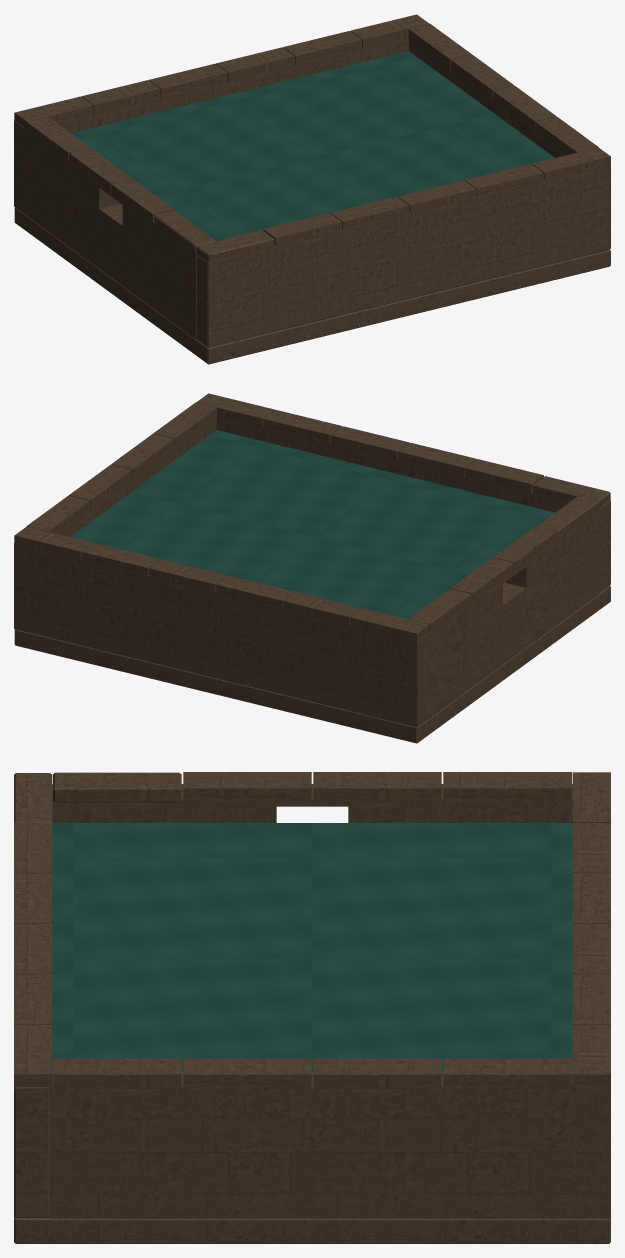
Rendered from d_drinking_cistern.glb.
The picture shows the model from 3 angles, top to bottom: view 1: azimuth 30°, elevation 25°; view 2: azimuth 150°, elevation 25°; view 3: azimuth 270°, elevation 25°; orthographic projection. The views are drawn at different scales.
Parts seen in each view (by area): view 1: basin foundation, WaterSurface, ported retaining wall-colonly.001, ported retaining wall-colonly.005, ported retaining wall-colonly.006, long coping block-colonly.002, long coping block-colonly.009, long coping block-colonly.011, long coping block-colonly.010, long coping block-colonly.001, short coping block-colonly.007, ported retaining wall-colonly.002 (+2 smaller); view 2: basin foundation, WaterSurface, ported retaining wall-colonly.005, ported retaining wall-colonly.002, ported retaining wall-colonly.001, short coping block-colonly.003, long coping block-colonly.003, long coping block-colonly.006, long coping block-colonly.009, short coping block-colonly.001, long coping block-colonly.010, long coping block-colonly.002; view 3: basin foundation, WaterSurface, ported retaining wall-colonly.006, ported retaining wall-colonly.005, short coping block-colonly.006, short coping block-colonly.007, short coping block-colonly.004, short coping block-colonly.005, short coping block-colonly.003, short coping block-colonly.001, short coping block-colonly.002, long coping block-colonly.004 (+1 smaller).
Boxes of the visible parts, <box> form: basin foundation: <box>14,15,610,364</box>; WaterSurface: <box>71,51,554,240</box>; ported retaining wall-colonly.001: <box>122,201,196,339</box>; ported retaining wall-colonly.005: <box>14,39,408,214</box>; ported retaining wall-colonly.006: <box>409,39,566,157</box>; long coping block-colonly.002: <box>330,196,409,231</box>; long coping block-colonly.009: <box>216,47,294,82</box>; long coping block-colonly.011: <box>350,14,428,49</box>; long coping block-colonly.010: <box>283,31,361,65</box>; long coping block-colonly.001: <box>263,213,341,246</box>; short coping block-colonly.007: <box>408,23,471,68</box>; ported retaining wall-colonly.002: <box>25,129,119,268</box>; basin foundation: <box>14,394,610,743</box>; WaterSurface: <box>71,430,554,619</box>; ported retaining wall-colonly.005: <box>14,543,428,727</box>; ported retaining wall-colonly.002: <box>429,580,502,718</box>; ported retaining wall-colonly.001: <box>506,508,599,647</box>; short coping block-colonly.003: <box>408,588,471,631</box>; long coping block-colonly.003: <box>330,426,409,461</box>; long coping block-colonly.006: <box>350,608,429,642</box>; long coping block-colonly.009: <box>149,559,227,593</box>; short coping block-colonly.001: <box>493,527,556,570</box>; long coping block-colonly.010: <box>81,543,160,576</box>; long coping block-colonly.002: <box>398,442,476,477</box>; basin foundation: <box>14,772,610,1243</box>; WaterSurface: <box>52,823,572,1071</box>; ported retaining wall-colonly.006: <box>49,1071,575,1218</box>; ported retaining wall-colonly.005: <box>575,1086,610,1218</box>; short coping block-colonly.006: <box>313,1058,441,1089</box>; short coping block-colonly.007: <box>443,1058,571,1089</box>; short coping block-colonly.004: <box>53,1058,181,1089</box>; short coping block-colonly.005: <box>183,1058,311,1089</box>; short coping block-colonly.003: <box>443,772,571,803</box>; short coping block-colonly.001: <box>183,772,311,803</box>; short coping block-colonly.002: <box>313,772,441,803</box>; long coping block-colonly.004: <box>14,974,52,1024</box>.
Size of what is drawn, in the model's own units: 6 by 1.57 by 5.
2 materials, 2 textured.
